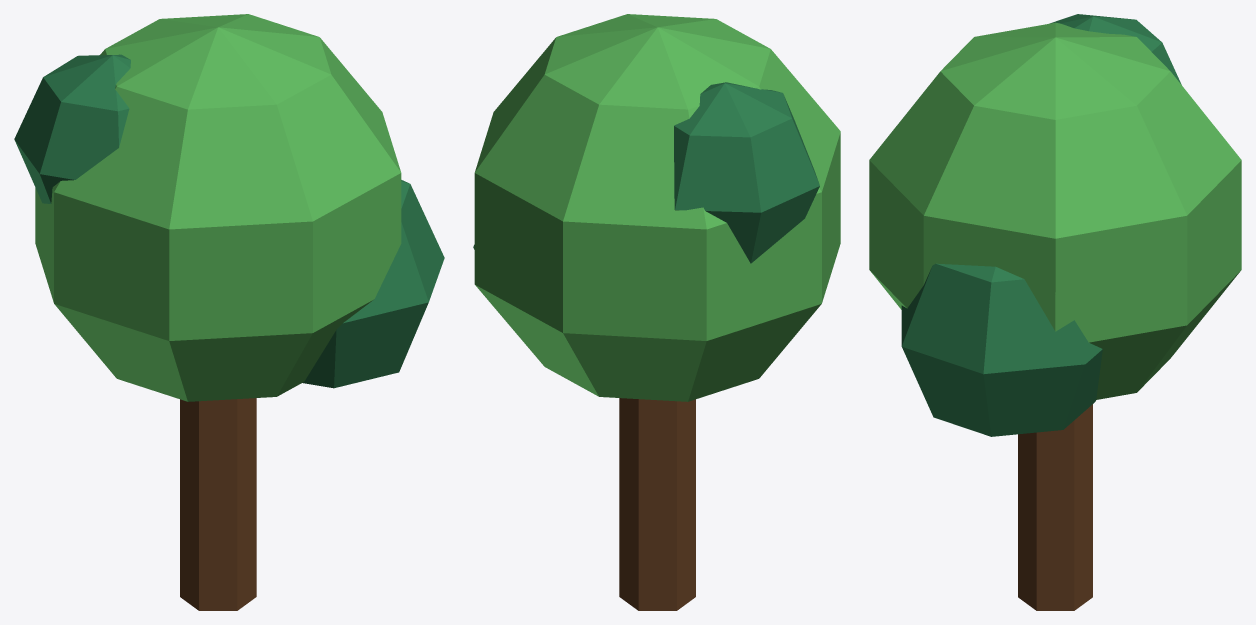
Rendered from mdl_z3_arbol_redondo.fbx.
3 renders of one model, left to right at view 1: azimuth 30°, elevation 25°; view 2: azimuth 150°, elevation 25°; view 3: azimuth 270°, elevation 25°, orthographic.
Visible parts, largest first — view 1: mdl_z3_arbol_redondo; view 2: mdl_z3_arbol_redondo; view 3: mdl_z3_arbol_redondo.
Part boxes in pixels (x1,y1,x2,y2): mdl_z3_arbol_redondo: (14, 14, 444, 610); mdl_z3_arbol_redondo: (473, 14, 840, 610); mdl_z3_arbol_redondo: (869, 14, 1241, 610).
Bounding box in the file's own units: 543 × 820 × 495.
